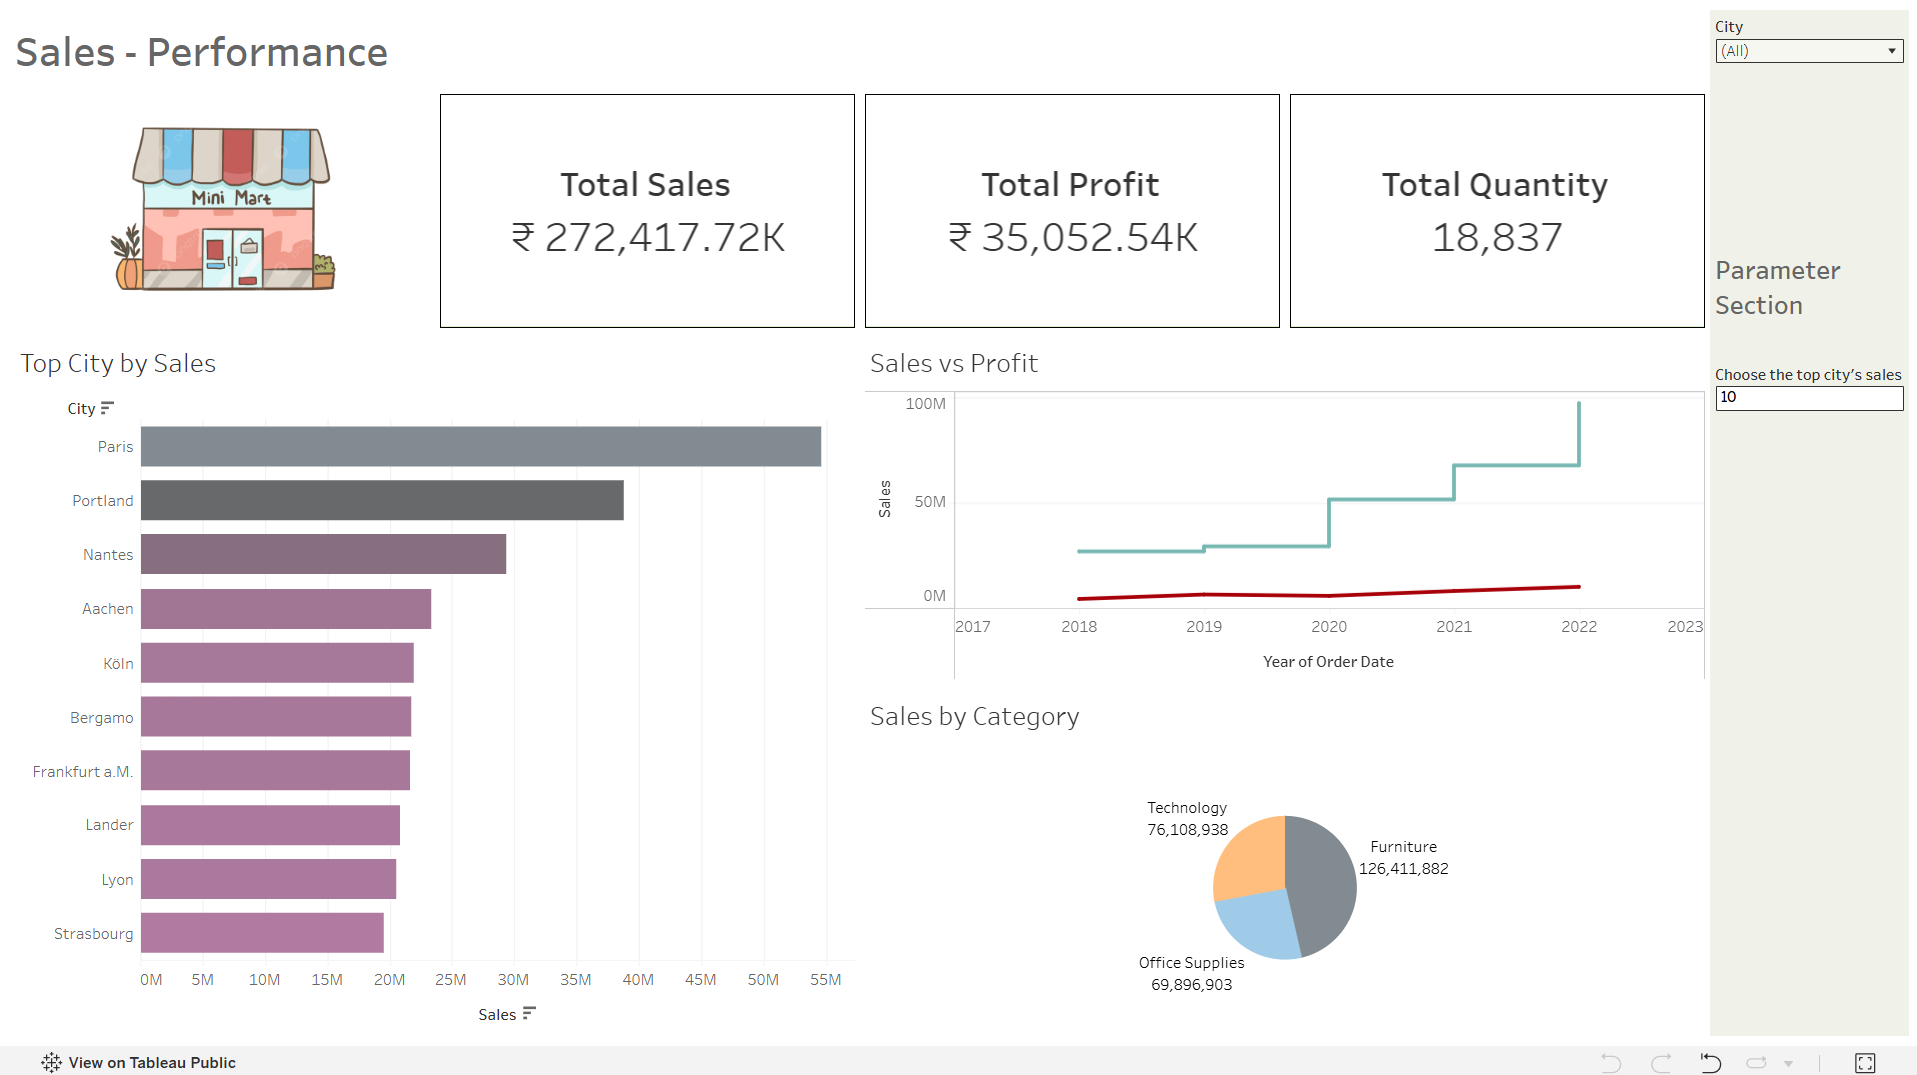

This screenshot's page, from the dashboard's own definition file:
{"tool":"tableau","page":{"name":"Dashboard 1","canvas":[1000,1000],"units":"permille","ordinal":0},"visuals":[{"type":"text","box":[4.8,9.4,893.8,75.1]},{"type":"filter","title":"Top City by Sales","param":"[federated.1trreeo0qi7gth0zlmmmh02vrqyg].[none:City:nk]","box":[898.6,9.4,96.6,193.9]},{"type":"image","param":"Image/mart.png","box":[4.8,84.6,223.9,233.8]},{"type":"worksheet","title":"Total Sales","mark":"Automatic","box":[228.7,84.6,223.3,233.8]},{"type":"worksheet","title":"Total Profit","mark":"Automatic","box":[452,84.6,223.3,233.8]},{"type":"worksheet","title":"Total Quantity","mark":"Automatic","box":[675.3,84.6,223.3,233.8]},{"type":"text","box":[898.6,203.3,96.6,132.8]},{"type":"worksheet","title":"Top City by Sales","mark":"Automatic","rows":["City"],"cols":["Sales"],"box":[4.8,318.4,447.2,672.1]},{"type":"worksheet","title":"Sales vs Profit","mark":"Automatic","rows":["Sales","Profit"],"cols":["Order_Date"],"box":[452,318.4,446.6,336.1]},{"type":"parameter","param":"[Parameters].[Parameter 0242206949736451]","box":[898.6,336.1,96.6,84.6]},{"type":"worksheet","title":"Sales by Category","mark":"Pie","box":[452,654.5,446.6,336.1]}]}

Visuals, with their boxes on the dashboard's canvas, which has no fixed pixel size, in thousandths of its width and height (x1, y1, x2, y2). These are canvas units, not pixel positions in the 1917x1075 screenshot, which may show the page scaled, cropped or inside an application window:
text: (left=5, top=9, right=899, bottom=84)
"Top City by Sales" filter: (left=899, top=9, right=995, bottom=203)
image: (left=5, top=85, right=229, bottom=318)
"Total Sales" worksheet: (left=229, top=85, right=452, bottom=318)
"Total Profit" worksheet: (left=452, top=85, right=675, bottom=318)
"Total Quantity" worksheet: (left=675, top=85, right=899, bottom=318)
text: (left=899, top=203, right=995, bottom=336)
"Top City by Sales" worksheet: (left=5, top=318, right=452, bottom=990)
"Sales vs Profit" worksheet: (left=452, top=318, right=899, bottom=654)
parameter: (left=899, top=336, right=995, bottom=421)
"Sales by Category" worksheet (Pie marks): (left=452, top=654, right=899, bottom=991)
